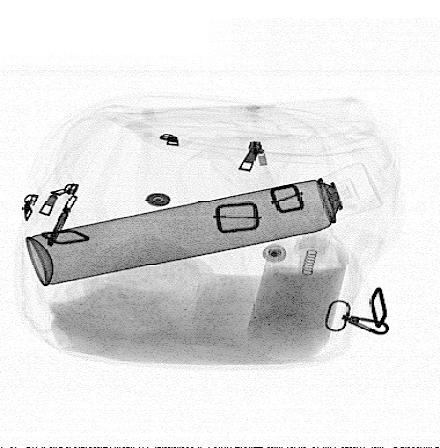Sprayer: (25, 162, 383, 287)
